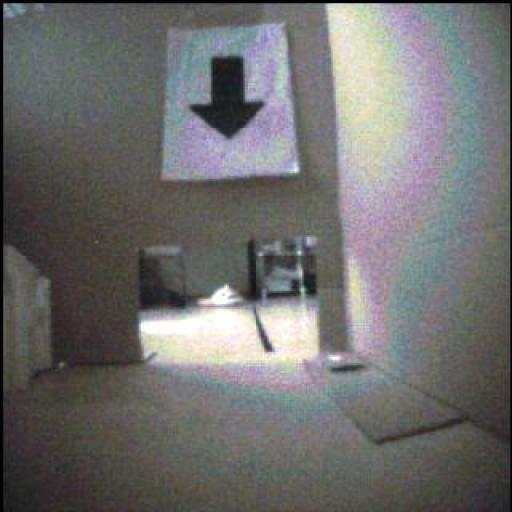arrow: (191, 59, 265, 139)
